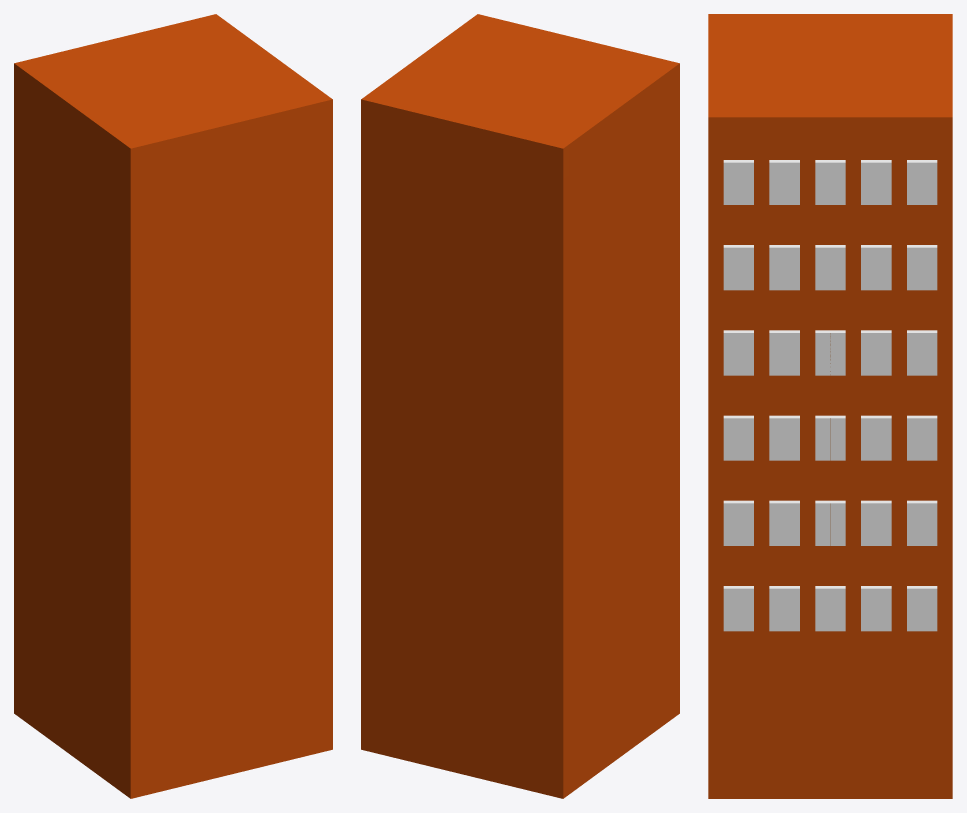
The model's file is predio1.fbx.
3 views of the same model, side by side, from view 1: azimuth 30°, elevation 25°; view 2: azimuth 150°, elevation 25°; view 3: azimuth 270°, elevation 25° (orthographic). The views are drawn at different scales.
Parts seen in each view (by area): view 1: Cube; view 2: Cube; view 3: Cube.
Boxes of the visible parts, box(x1,y1,x2,y2) form: Cube: box(14, 14, 332, 798); Cube: box(361, 14, 679, 798); Cube: box(708, 14, 952, 798).
Size of the model in its own units: 242 by 725 by 236.
